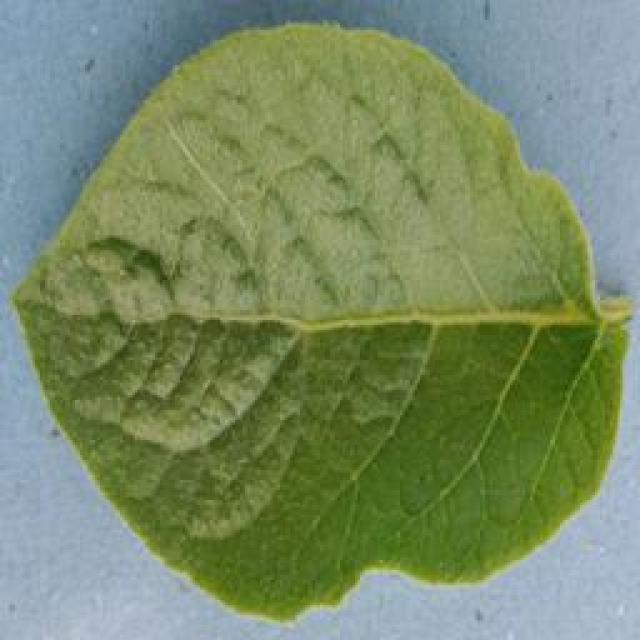Potato_Healthy: (10, 0, 635, 625)
